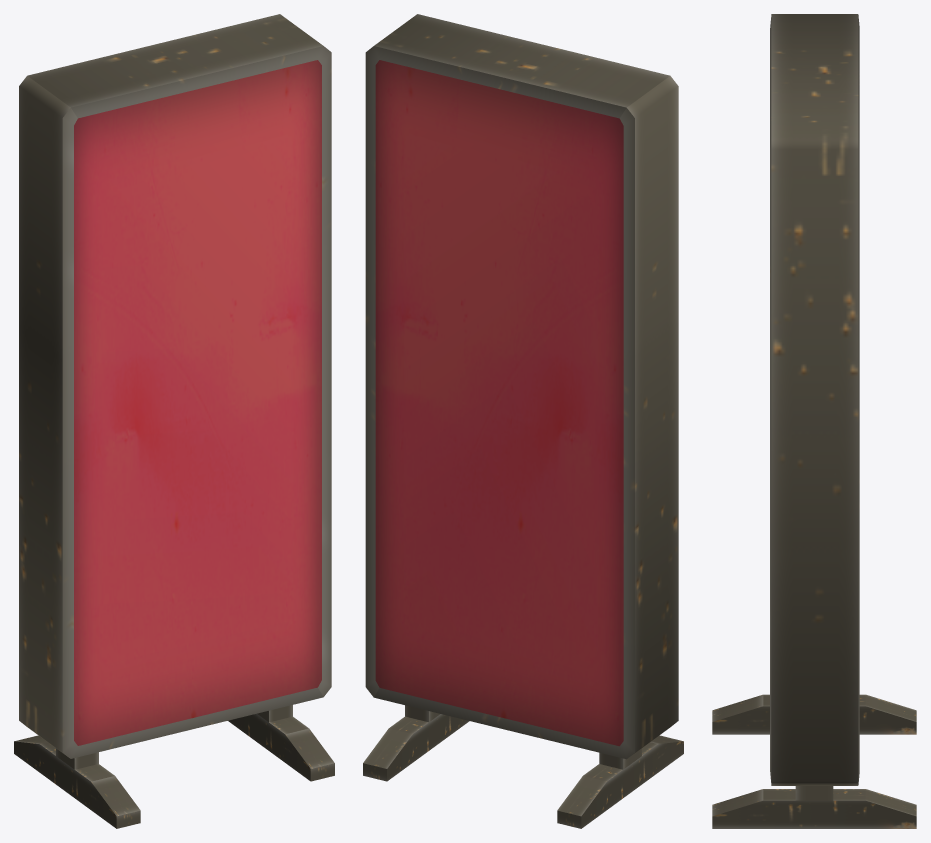
Rendered from Shop_sign02.fbx.
The picture shows the model from 3 angles, left to right: view 1: azimuth 30°, elevation 25°; view 2: azimuth 150°, elevation 25°; view 3: azimuth 270°, elevation 25°; orthographic projection.
Visible parts, largest first — view 1: Shop_sign02; view 2: Shop_sign02; view 3: Shop_sign02.
Part boxes in pixels (box(x1,y1,x2,y2)): Shop_sign02: box(14, 14, 334, 828); Shop_sign02: box(363, 14, 683, 828); Shop_sign02: box(712, 14, 916, 828).
Bounding box in the file's own units: 45.6 × 30.12 × 114.
Materials: 2 (2 with a texture image).
